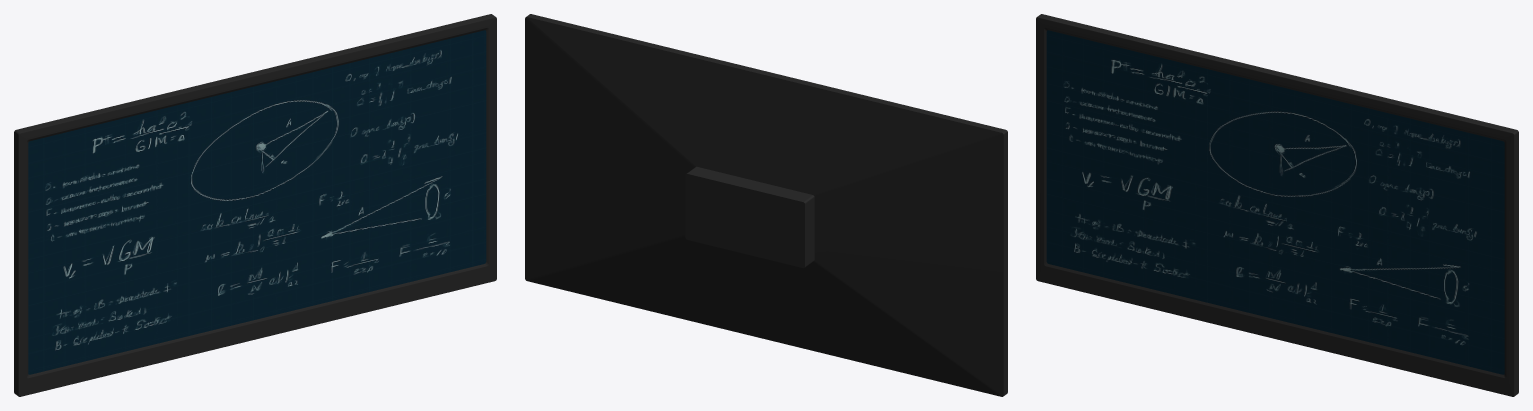
File: Led_daigram.fbx
3 renders of one model, left to right at view 1: azimuth 30°, elevation 25°; view 2: azimuth 150°, elevation 25°; view 3: azimuth 330°, elevation 25°, orthographic.
Parts seen in each view (by area): view 1: polySurface2.001, polySurface1.001; view 2: polySurface1.001; view 3: polySurface2.001, polySurface1.001.
Boxes of the visible parts, box(x1,y1,x2,y2) form: polySurface2.001: box(28, 30, 486, 374); polySurface1.001: box(14, 14, 496, 396); polySurface1.001: box(525, 14, 1007, 396); polySurface2.001: box(1046, 30, 1504, 374); polySurface1.001: box(1036, 14, 1518, 396).
Size of the model in its own units: 13.33 by 7.03 by 1.14.
Materials: 2 (2 with a texture image).
